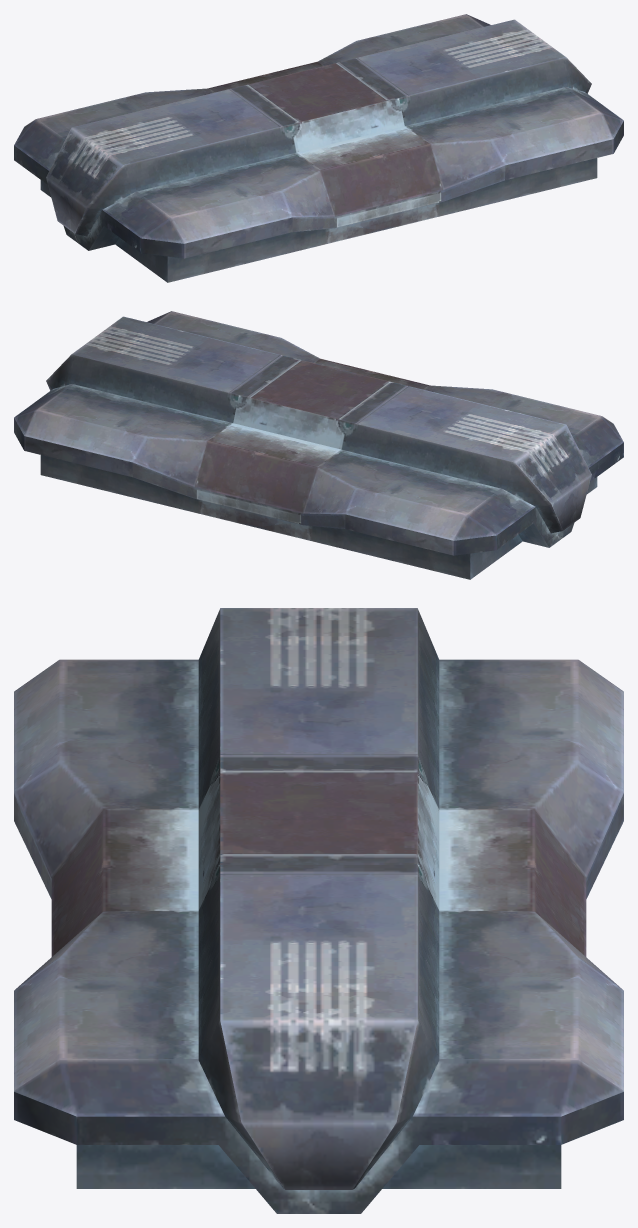
File: hth_item_con_footlocker_lid.glb
3 views of the same model, one above another, from view 1: azimuth 30°, elevation 25°; view 2: azimuth 150°, elevation 25°; view 3: azimuth 270°, elevation 25° (orthographic). The views are drawn at different scales.
Visible parts, largest first — view 1: hth_item_con_footlocker_lid; view 2: hth_item_con_footlocker_lid; view 3: hth_item_con_footlocker_lid.
Part boxes in pixels (x1,y1,x2,y2): hth_item_con_footlocker_lid: (14,14,623,282); hth_item_con_footlocker_lid: (14,311,623,579); hth_item_con_footlocker_lid: (14,608,623,1213).
Bounding box in the file's own units: 0.1707 × 0.0295 × 0.0936.
1 material, 1 textured.
